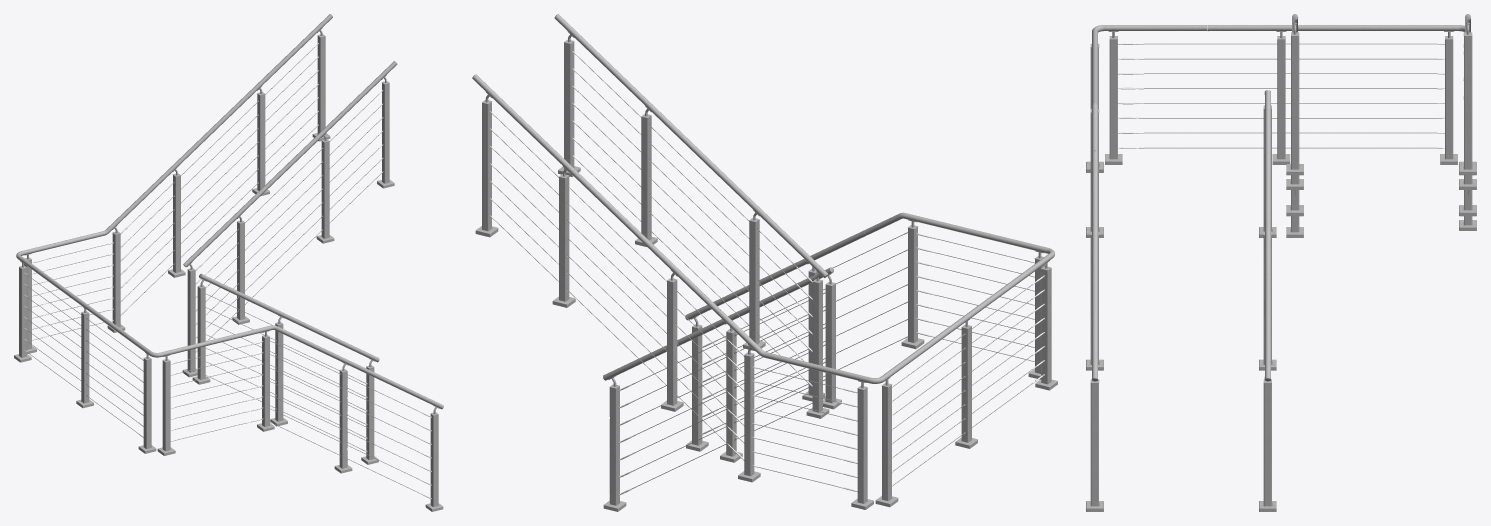
Rendered from Switchback_Railing_Koto_Square.gltf.
The picture shows the model from 3 angles, left to right: view 1: azimuth 30°, elevation 25°; view 2: azimuth 150°, elevation 25°; view 3: azimuth 270°, elevation 25°; orthographic projection. The views are drawn at different scales.
Parts seen in each view (by area): view 1: LS208 & LS209 - Circum Square Post Material LS Material [893 (×17), Nested_Rail LS Material [8461322], Nested_Rail LS Material [8719226], Nested_Rail LS Material [8461324], Nested_Rail LS Material [8719249], LS208 & LS209 - Circum Square Post Material LS Material [904, Nested_Bend Bend_1, Nested_Bend Bend [8719267], Nested_Bend Bend [8719259], Nested_Bend Bend_2; view 2: LS208 & LS209 - Circum Square Post Material LS Material [893 (×17), Nested_Rail LS Material [8461322], Nested_Rail LS Material [8719226], Nested_Rail LS Material [8461324], Nested_Bend Bend_1, Nested_Rail LS Material [8719249], Nested_Bend Bend [8719267], Nested_Bend Bend [8719259], Nested_Bend Bend_2, LS208 & LS209 - Circum Square Post Material LS Material [904; view 3: LS208 & LS209 - Circum Square Post Material LS Material [893 (×7), Nested_Rail LS Material [8461324], Nested_Bend Bend_1, Nested_Rail LS Material [8719249], Nested_Bend Bend_2, Nested_Bend Bend [8719267], Nested_Cable_Single Cable Assembly Generic [8583315]012, Nested_Cable_Single Cable Assembly Generic [8583315]015, Nested_Cable_Single Cable Assembly Generic [8583315]010, Nested_Cable_Single Cable Assembly Generic [8583315]011.
Boxes of the visible parts, x1,y1,x2,y2 form: LS208 & LS209 - Circum Square Post Material LS Material [893 (×17): [19, 36, 438, 506]; Nested_Rail LS Material [8461322]: [184, 61, 396, 266]; Nested_Rail LS Material [8719226]: [139, 14, 332, 200]; Nested_Rail LS Material [8461324]: [200, 274, 379, 362]; Nested_Rail LS Material [8719249]: [302, 339, 443, 409]; LS208 & LS209 - Circum Square Post Material LS Material [904: [162, 361, 170, 451]; Nested_Bend Bend_1: [16, 243, 112, 326]; Nested_Bend Bend [8719267]: [193, 325, 303, 348]; Nested_Bend Bend [8719259]: [55, 198, 141, 247]; Nested_Bend Bend_2: [110, 323, 193, 357]; LS208 & LS209 - Circum Square Post Material LS Material [893 (×17): [482, 42, 1051, 505]; Nested_Rail LS Material [8461322]: [554, 14, 827, 277]; Nested_Rail LS Material [8719226]: [472, 74, 720, 313]; Nested_Rail LS Material [8461324]: [603, 268, 831, 380]; Nested_Bend Bend_1: [827, 289, 1003, 383]; Nested_Rail LS Material [8719249]: [685, 230, 866, 320]; Nested_Bend Bend [8719267]: [864, 212, 1005, 242]; Nested_Bend Bend [8719259]: [717, 310, 828, 372]; Nested_Bend Bend_2: [1001, 238, 1054, 293]; LS208 & LS209 - Circum Square Post Material LS Material [904: [1035, 259, 1044, 373]; LS208 & LS209 - Circum Square Post Material LS Material [893 (×7): [1090, 36, 1472, 506]; Nested_Rail LS Material [8461324]: [1264, 90, 1270, 379]; Nested_Bend Bend_1: [1208, 25, 1464, 32]; Nested_Rail LS Material [8719249]: [1092, 151, 1097, 378]; Nested_Bend Bend_2: [1092, 25, 1207, 51]; Nested_Bend Bend [8719267]: [1092, 51, 1097, 150]; Nested_Cable_Single Cable Assembly Generic [8583315]012: [1144, 43, 1437, 44]; Nested_Cable_Single Cable Assembly Generic [8583315]015: [1144, 58, 1437, 59]; Nested_Cable_Single Cable Assembly Generic [8583315]010: [1144, 132, 1437, 133]; Nested_Cable_Single Cable Assembly Generic [8583315]011: [1144, 147, 1437, 148].
Bounding box in the file's own units: 3.05 × 3.48 × 2.38.
4 materials, 3 textured.
